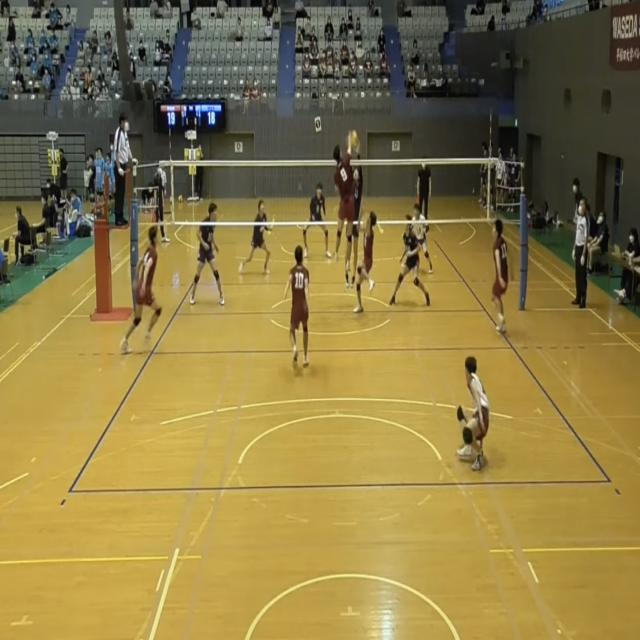spike: (328, 124, 366, 276)
